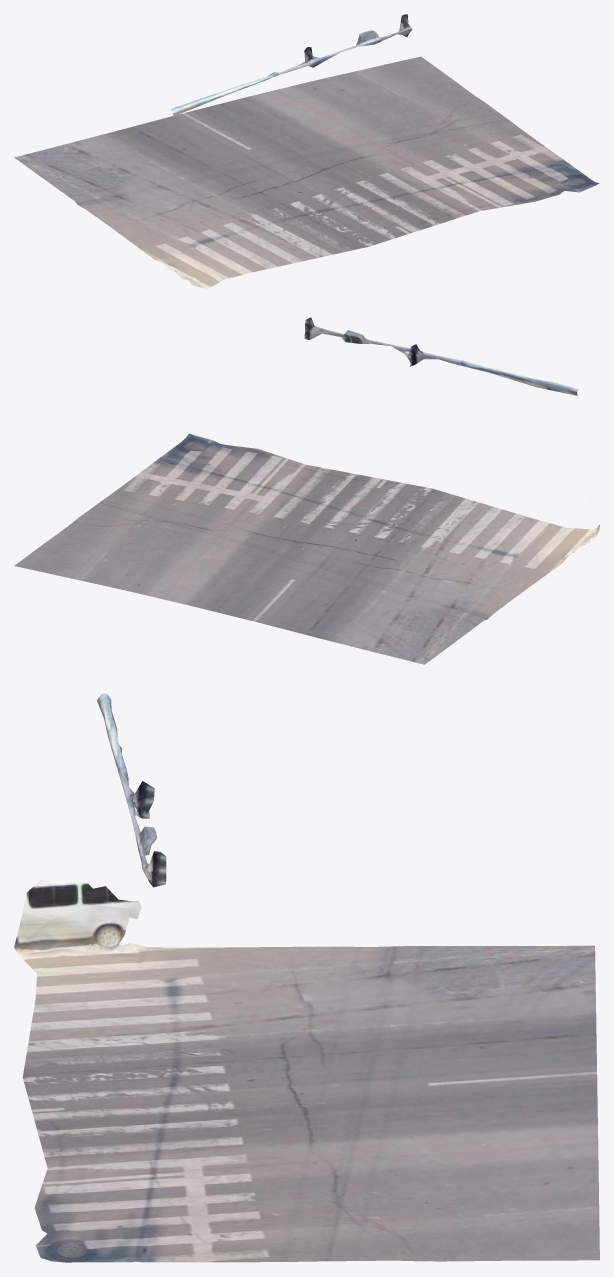
File: Tile_+006_+007_L21_000000t3.glb
3 renders of one model, top to bottom at view 1: azimuth 30°, elevation 25°; view 2: azimuth 150°, elevation 25°; view 3: azimuth 270°, elevation 25°, orthographic. The views are drawn at different scales.
Parts seen in each view (by area): view 1: rtc; view 2: rtc; view 3: rtc.
Part boxes in pixels (x1=…): rtc: x1=14, y1=14, x2=599, y2=288; rtc: x1=14, y1=317, x2=599, y2=664; rtc: x1=14, y1=693, x2=599, y2=1262.
Size of the model in its own units: 17.85 by 7.68 by 13.97.
1 material, 1 textured.
